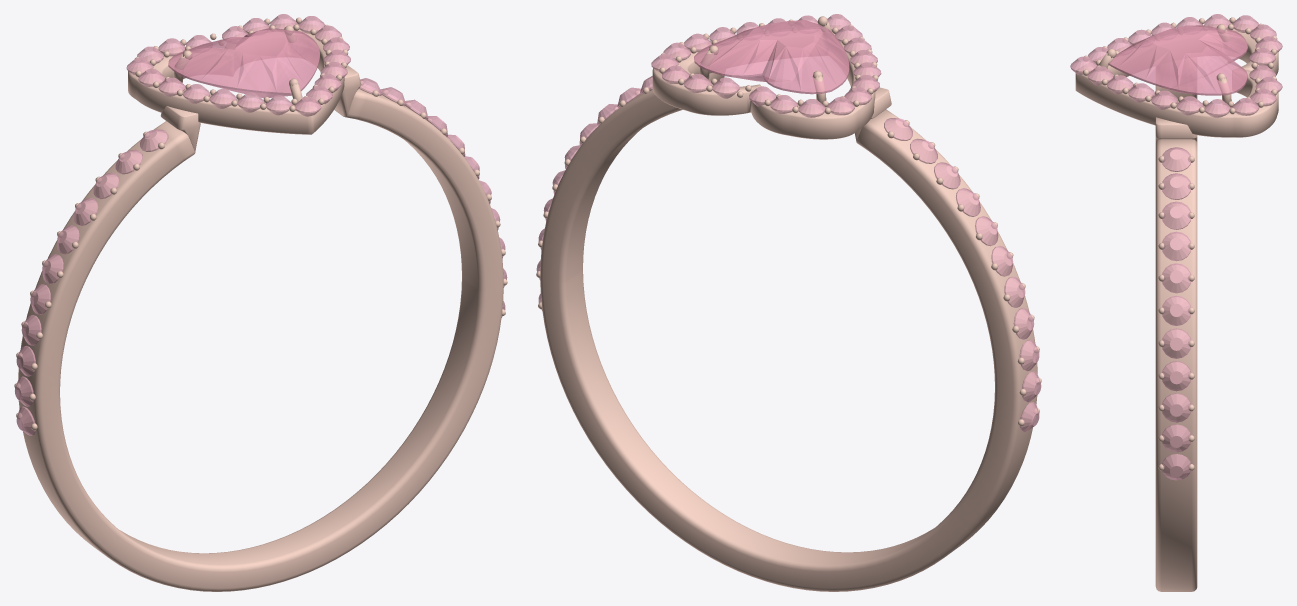
The model's file is J003-display-v03.glb.
The picture shows the model from 3 angles, left to right: view 1: azimuth 30°, elevation 25°; view 2: azimuth 150°, elevation 25°; view 3: azimuth 270°, elevation 25°; orthographic projection. The views are drawn at different scales.
Parts seen in each view (by area): view 1: J003_Metal, J003_AccentStones, J003_MainStone; view 2: J003_Metal, J003_AccentStones, J003_MainStone; view 3: J003_Metal, J003_AccentStones, J003_MainStone.
Part boxes in pixels (bbox=[...]): J003_Metal: bbox=[14, 17, 507, 591]; J003_AccentStones: bbox=[15, 14, 507, 435]; J003_MainStone: bbox=[168, 28, 319, 98]; J003_Metal: bbox=[536, 16, 1041, 591]; J003_AccentStones: bbox=[536, 14, 1041, 432]; J003_MainStone: bbox=[694, 20, 849, 94]; J003_Metal: bbox=[1075, 17, 1278, 591]; J003_AccentStones: bbox=[1070, 14, 1282, 480]; J003_MainStone: bbox=[1108, 25, 1247, 95].
Bounding box in the file's own units: 0.0185 × 0.0195 × 0.00711.
